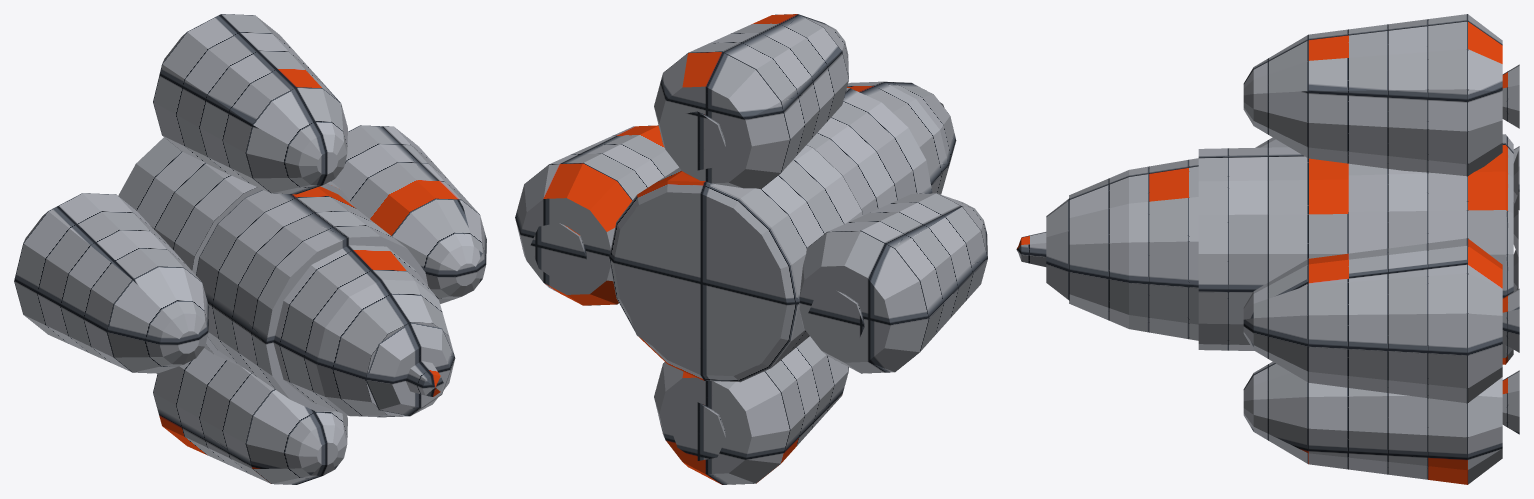
The model's file is PFL_Soyuz_Prism.obj.
3 views of the same model, side by side, from view 1: azimuth 30°, elevation 25°; view 2: azimuth 150°, elevation 25°; view 3: azimuth 270°, elevation 25° (orthographic). The views are drawn at different scales.
Visible parts, largest first — view 1: PFL_Soyuz_Prism; view 2: PFL_Soyuz_Prism; view 3: PFL_Soyuz_Prism.
Part boxes in pixels (<box>): PFL_Soyuz_Prism: <box>14,14,486,484</box>; PFL_Soyuz_Prism: <box>515,14,987,484</box>; PFL_Soyuz_Prism: <box>1016,14,1519,484</box>.
Size of the model in its own units: 1 by 1 by 1.
1 material, 1 textured.
